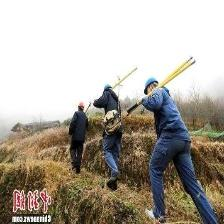Person: (144, 74, 188, 224), (97, 83, 126, 199), (69, 100, 88, 178)
